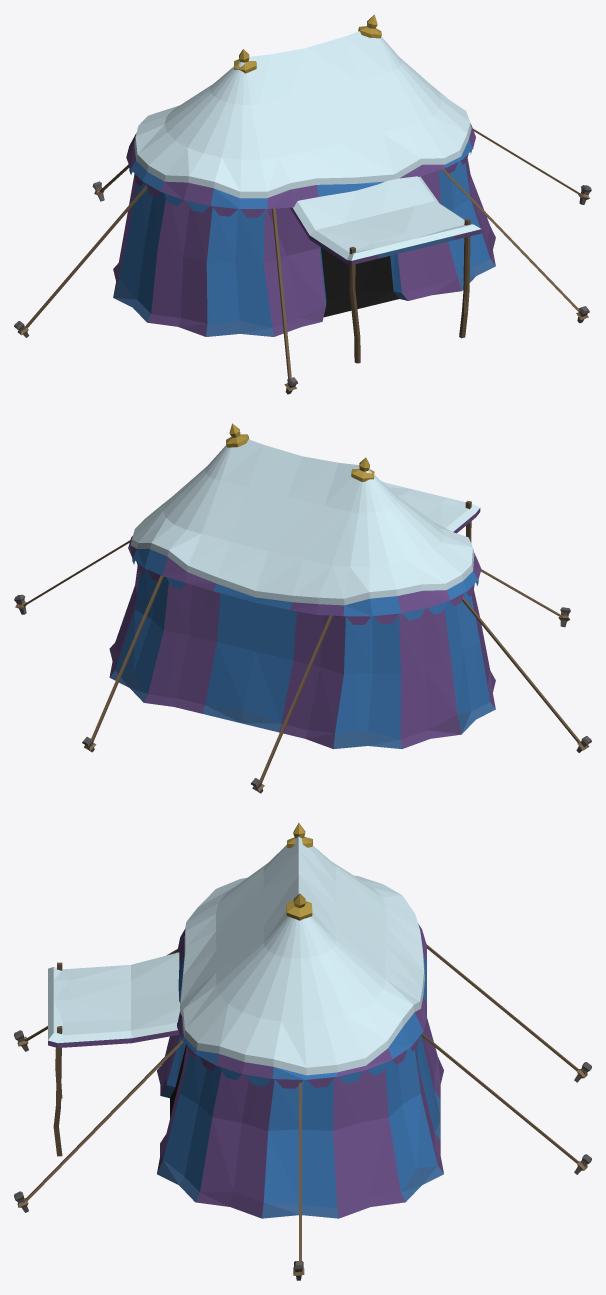
The model's file is SM_Bld_Tent_03_Snow.gltf.
3 views of the same model, one above another, from view 1: azimuth 30°, elevation 25°; view 2: azimuth 150°, elevation 25°; view 3: azimuth 270°, elevation 25° (orthographic). The views are drawn at different scales.
Visible parts, largest first — view 1: SM_Bld_Tent_03_Snow; view 2: SM_Bld_Tent_03_Snow; view 3: SM_Bld_Tent_03_Snow.
Boxes of the visible parts, x1,y1,x2,y2 form: SM_Bld_Tent_03_Snow: (14, 14, 591, 394); SM_Bld_Tent_03_Snow: (14, 423, 591, 793); SM_Bld_Tent_03_Snow: (14, 823, 591, 1280).
Size of the model in its own units: 11.48 by 4.62 by 8.89.
1 material, 1 textured.
